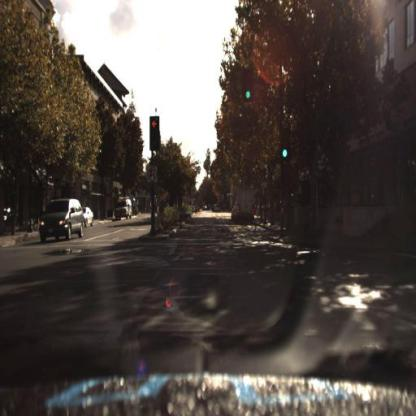car: (41, 195, 84, 235), (234, 181, 257, 226), (110, 194, 128, 219), (83, 205, 93, 228)
trafficLight: (245, 67, 254, 103)
trafficLight-Green: (283, 133, 290, 161)
trafficLight-RedLeft: (151, 113, 159, 147)
